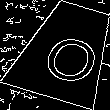O_N: (31, 20, 101, 83)
